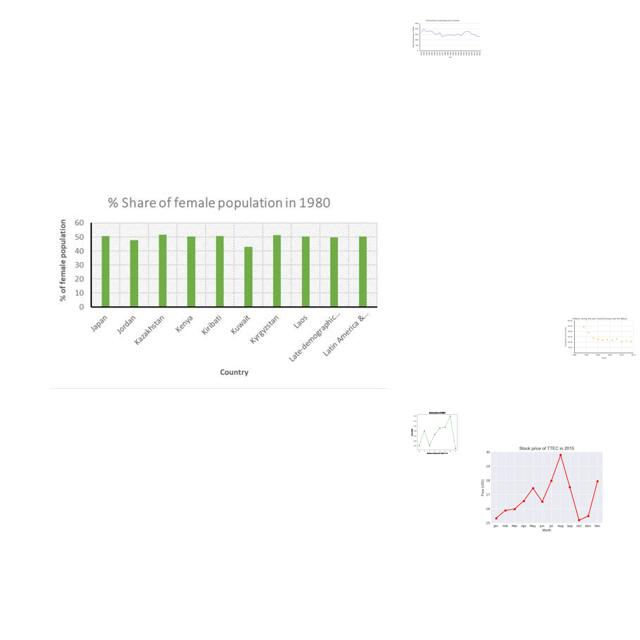Graph: (51, 187, 387, 389), (473, 433, 617, 541), (564, 317, 636, 359), (411, 18, 482, 59), (406, 409, 467, 455)
